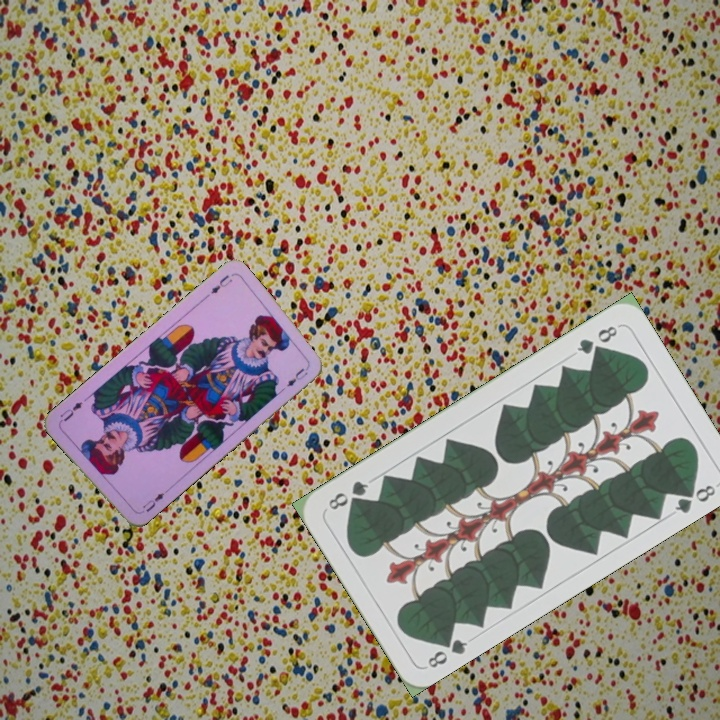EU: (135, 487, 169, 517), (207, 271, 235, 297)
G8: (423, 630, 470, 671), (572, 321, 622, 357)
